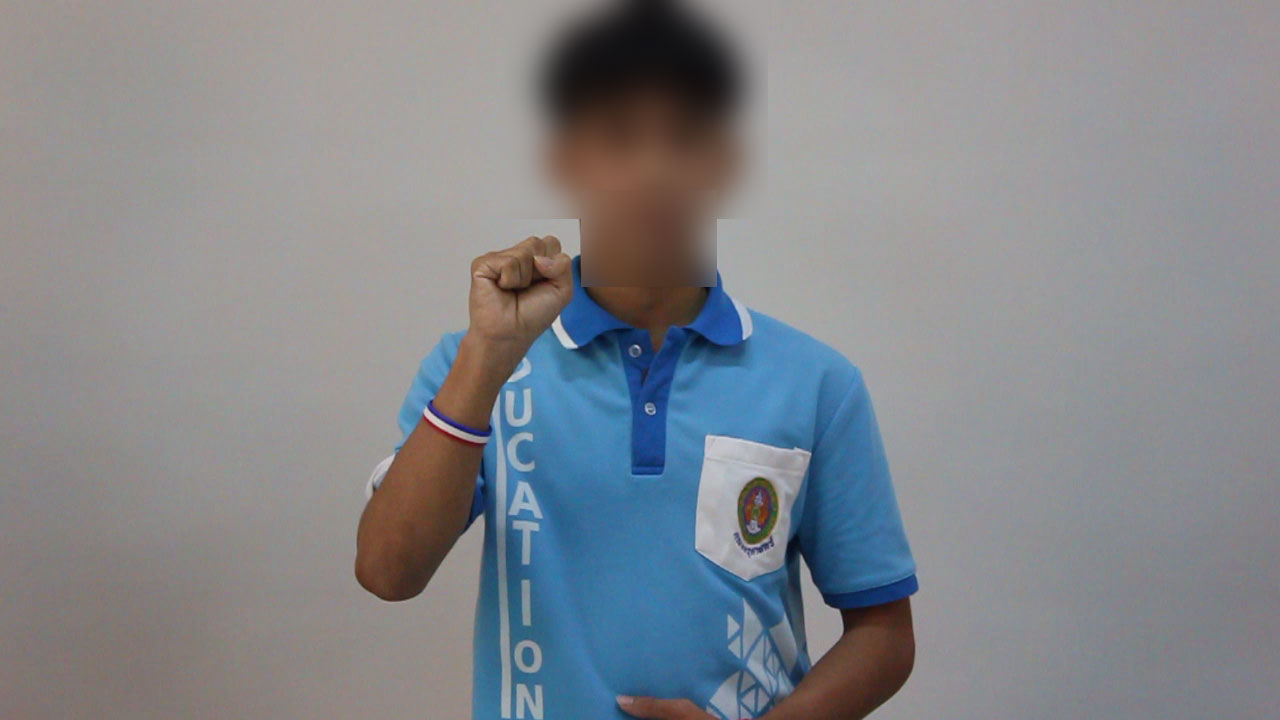sor: (447, 221, 577, 369)
